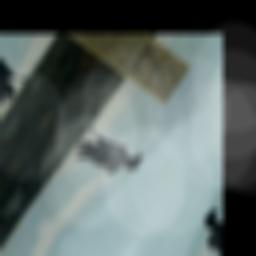Crow: (70, 119, 146, 192)
